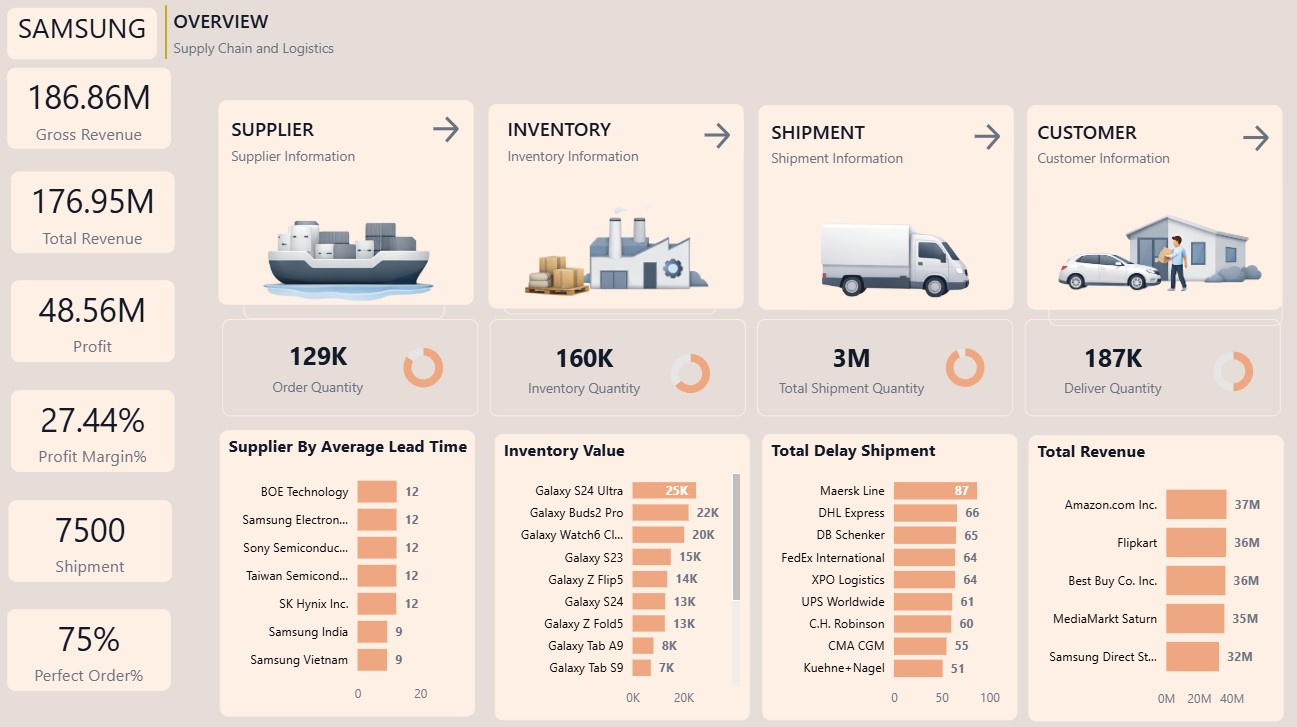

Layout of this report page (visuals, bound fields, positions):
{"tool":"powerbi","page":{"name":"Page 1","canvas":[1280,720],"ordinal":0},"visuals":[{"type":"shape","box":[217.9,103.9,249.5,200],"z":0},{"type":"shape","box":[481.7,107.6,249.5,200],"z":1000},{"type":"shape","box":[745.4,108.8,249.5,200],"z":2000},{"type":"shape","box":[1009.1,108.8,249.5,200],"z":3000},{"type":"image","box":[242.1,185.9,196.9,132.1],"z":4000},{"type":"image","box":[1029.6,176.1,228.7,149.2],"z":5000},{"type":"image","box":[783.8,200.5,187.1,107.6],"z":6000},{"type":"image","box":[496.5,179.8,209.1,133.3],"z":7000},{"type":"actionButton","box":[418,111.3,42.8,42.8],"z":8000},{"type":"actionButton","box":[683.3,117.4,47.7,42.8],"z":9000},{"type":"actionButton","box":[947.5,118.6,47.7,42.8],"z":10000},{"type":"actionButton","box":[1210.4,119.8,42.8,42.8],"z":11000},{"type":"shape","title":"SUPPLIER","box":[226.4,114.9,178.5,78.3],"z":12000},{"type":"shape","title":"INVENTORY","box":[496.7,114.9,178.5,78.3],"z":13000},{"type":"shape","title":"SHIPMENT","box":[754.7,117.4,178.5,78.3],"z":14000},{"type":"shape","title":"CUSTOMER","box":[1015.2,117.4,178.5,78.3],"z":15000},{"type":"shape","title":"OVERVIEW","box":[173.6,13.5,178.5,78.3],"z":16000},{"type":"shape","box":[145.5,11,41.6,52.6],"z":17000},{"type":"card","fields":{"Values":["MeasureTable.Total_Revenue"]},"box":[14.7,173.4,160,80],"z":18000},{"type":"card","fields":{"Values":["MeasureTable.Profit"]},"box":[14.9,280.5,160,80],"z":19000},{"type":"card","fields":{"Values":["MeasureTable.Profit_Margin%"]},"box":[14.7,387.6,160,80],"z":20000},{"type":"card","fields":{"Values":["MeasureTable.Total_Shipment"]},"box":[12.2,494.8,160,80],"z":21000},{"type":"card","fields":{"Values":["Sum(fact_sales.gross_revenue)"]},"box":[11,72.1,160.2,79.5],"z":22000},{"type":"card","fields":{"Values":["fact_sales.Perfect_Order %"]},"box":[11,601.9,160,80],"z":23000},{"type":"shape","box":[221.6,317.4,250,95],"z":24000},{"type":"shape","box":[483.3,317.4,250,95],"z":25000},{"type":"shape","box":[744.9,317.4,250,95],"z":26000},{"type":"shape","box":[1006.6,317.4,250,95],"z":27000},{"type":"card","fields":{"Values":["MeasureTable.Order_QTY"]},"box":[232.3,324.1,165.1,80.7],"z":28000},{"type":"card","fields":{"Values":["MeasureTable.Inventory_Value"]},"box":[492.8,325.3,165.1,80.7],"z":29000},{"type":"card","fields":{"Values":["MeasureTable.Total_Shipment_Quantity"]},"box":[754.5,325.3,165.1,80.7],"z":30000},{"type":"card","fields":{"Values":["MeasureTable.Total_Deliver_Qunatity"]},"box":[1010.1,325.3,165.1,80.7],"z":31000},{"type":"clusteredBarChart","title":"Supplier By Average Lead Time","fields":{"Y":["MeasureTable.Average_Lead_Time"],"Category":["dim_supplier.supplier_name"]},"box":[218.6,427.3,249.5,280],"z":32000},{"type":"clusteredBarChart","title":"Inventory Value","fields":{"Category":["dim_product.product_name"],"Y":["MeasureTable.Inventory_Value"]},"box":[487.4,430.2,249.5,280],"z":33000},{"type":"clusteredBarChart","title":"Total Delay Shipment","fields":{"Y":["MeasureTable.Total_Delay"],"Category":["fact_shipment.carrier"]},"box":[749.4,430.7,249.5,280],"z":34000},{"type":"clusteredBarChart","title":"Total Revenue ","fields":{"Y":["MeasureTable.Total_Revenue"],"Category":["dim_customer.customer_name"]},"box":[1009.6,431.2,249.5,280],"z":35000},{"type":"donutChart","fields":{"Y":["MeasureTable.Order_QTY","MeasureTable.Defeact_Rate"]},"box":[388.9,333.8,58.7,63.6],"z":36000},{"type":"donutChart","fields":{"Y":["MeasureTable.Inventory_Value","MeasureTable.Safety_Stock"]},"box":[650.5,339.9,58,63],"z":37000},{"type":"donutChart","fields":{"Y":["MeasureTable.Total_Shipment","MeasureTable.Total_Delay"]},"box":[919.6,333.8,57.5,63.6],"z":38000},{"type":"donutChart","fields":{"Y":["MeasureTable.Total_Deliver_Quantity","MeasureTable.Total_Quantity_Delay"]},"box":[1181.3,337.5,58.7,63.6],"z":39000},{"type":"textbox","box":[11,13.5,146.7,50.1],"z":40000}]}

Visuals, with their boxes in screenshot pixels (x1, y1, x2, y2), scaled from the page's 1280x720 canvas onto the 1297x727 screenshot:
shape: [left=221, top=105, right=474, bottom=307]
shape: [left=488, top=109, right=741, bottom=311]
shape: [left=755, top=110, right=1008, bottom=312]
shape: [left=1023, top=110, right=1275, bottom=312]
image: [left=245, top=188, right=445, bottom=321]
image: [left=1043, top=178, right=1275, bottom=328]
image: [left=794, top=202, right=984, bottom=311]
image: [left=503, top=182, right=715, bottom=316]
actionButton: [left=424, top=112, right=467, bottom=156]
actionButton: [left=692, top=119, right=741, bottom=162]
actionButton: [left=960, top=120, right=1008, bottom=163]
actionButton: [left=1226, top=121, right=1270, bottom=164]
"SUPPLIER" shape: [left=229, top=116, right=410, bottom=195]
"INVENTORY" shape: [left=503, top=116, right=684, bottom=195]
"SHIPMENT" shape: [left=765, top=119, right=946, bottom=198]
"CUSTOMER" shape: [left=1029, top=119, right=1210, bottom=198]
"OVERVIEW" shape: [left=176, top=14, right=357, bottom=93]
shape: [left=147, top=11, right=190, bottom=64]
card - MeasureTable.Total_Revenue: [left=15, top=175, right=177, bottom=256]
card - MeasureTable.Profit: [left=15, top=283, right=177, bottom=364]
card - MeasureTable.Profit_Margin%: [left=15, top=391, right=177, bottom=472]
card - MeasureTable.Total_Shipment: [left=12, top=500, right=174, bottom=580]
card - Sum(fact_sales.gross_revenue): [left=11, top=73, right=173, bottom=153]
card - fact_sales.Perfect_Order %: [left=11, top=608, right=173, bottom=689]
shape: [left=225, top=320, right=478, bottom=416]
shape: [left=490, top=320, right=743, bottom=416]
shape: [left=755, top=320, right=1008, bottom=416]
shape: [left=1020, top=320, right=1273, bottom=416]
card - MeasureTable.Order_QTY: [left=235, top=327, right=403, bottom=409]
card - MeasureTable.Inventory_Value: [left=499, top=328, right=667, bottom=410]
card - MeasureTable.Total_Shipment_Quantity: [left=765, top=328, right=932, bottom=410]
card - MeasureTable.Total_Deliver_Qunatity: [left=1024, top=328, right=1191, bottom=410]
"Supplier By Average Lead Time" clusteredBarChart: [left=222, top=431, right=474, bottom=714]
"Inventory Value" clusteredBarChart: [left=494, top=434, right=747, bottom=717]
"Total Delay Shipment" clusteredBarChart: [left=759, top=435, right=1012, bottom=718]
"Total Revenue " clusteredBarChart: [left=1023, top=435, right=1276, bottom=718]
donutChart - MeasureTable.Order_QTY x MeasureTable.Defeact_Rate: [left=394, top=337, right=454, bottom=401]
donutChart - MeasureTable.Inventory_Value x MeasureTable.Safety_Stock: [left=659, top=343, right=718, bottom=407]
donutChart - MeasureTable.Total_Shipment x MeasureTable.Total_Delay: [left=932, top=337, right=990, bottom=401]
donutChart - MeasureTable.Total_Deliver_Quantity x MeasureTable.Total_Quantity_Delay: [left=1197, top=341, right=1256, bottom=405]
textbox: [left=11, top=14, right=160, bottom=64]
